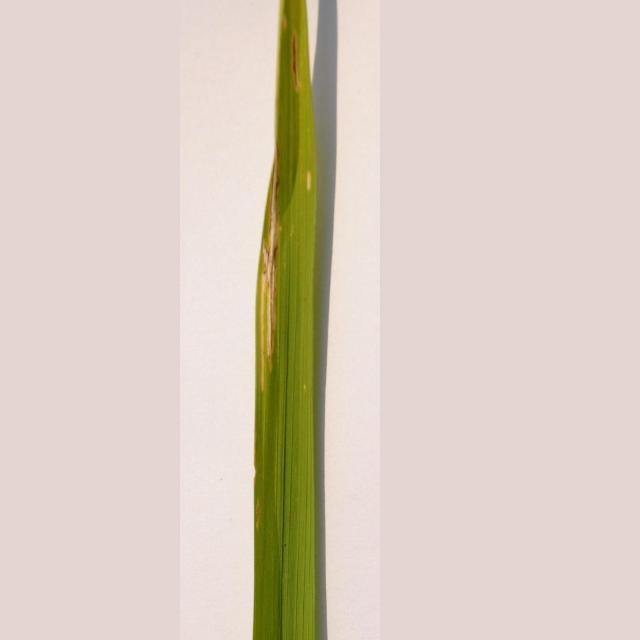leaf blight: (259, 1, 309, 379)
